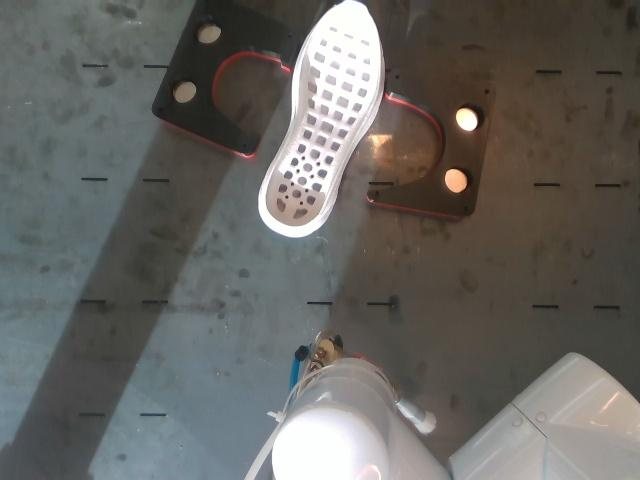shoes: (265, 1, 380, 227)
